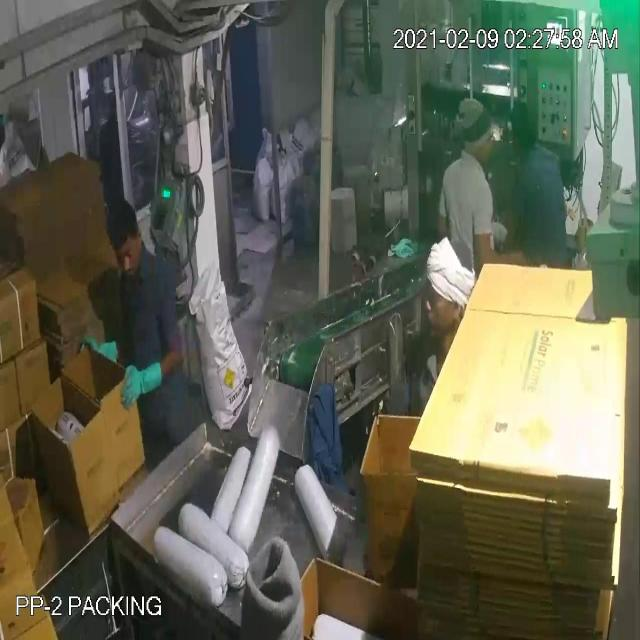gloves: (108, 360, 172, 416), (80, 334, 124, 378)
